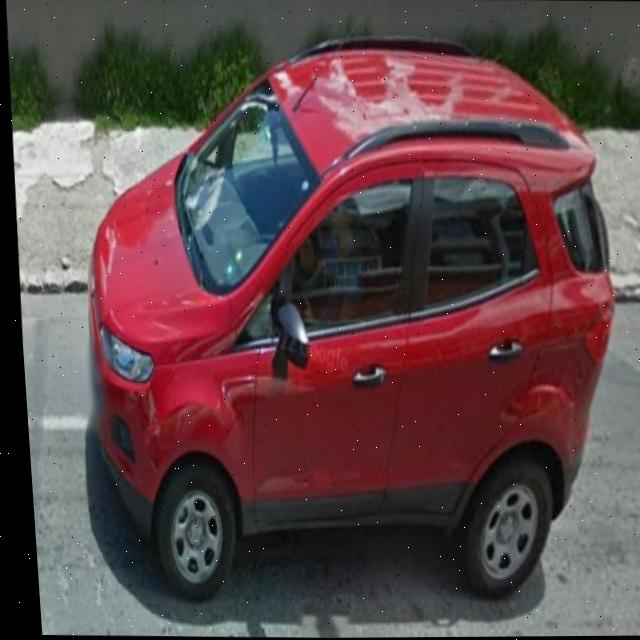vehicle: (60, 29, 635, 615)
